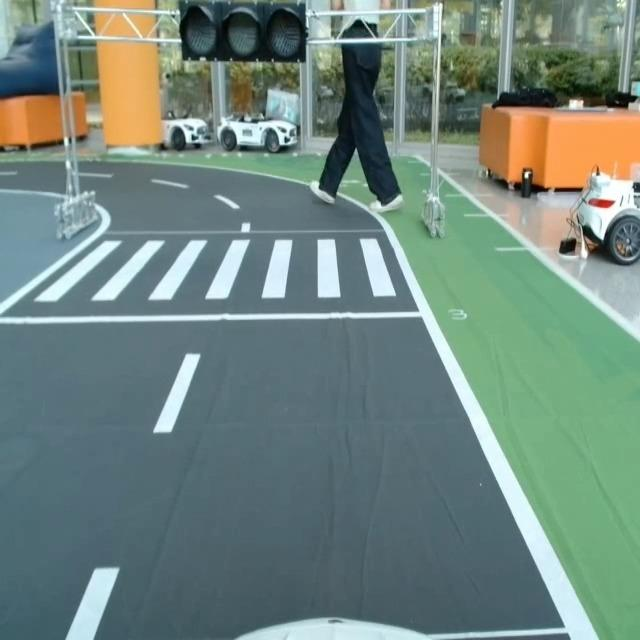traffic-light: (175, 0, 311, 65)
